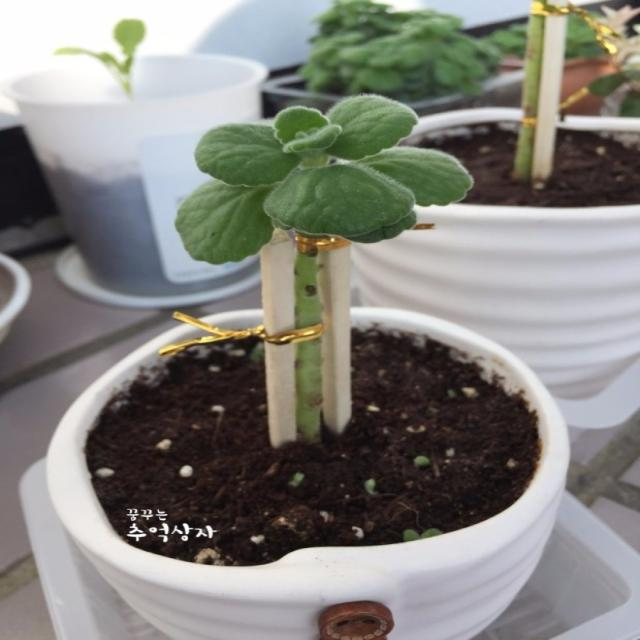Vicks: (177, 95, 472, 262)
